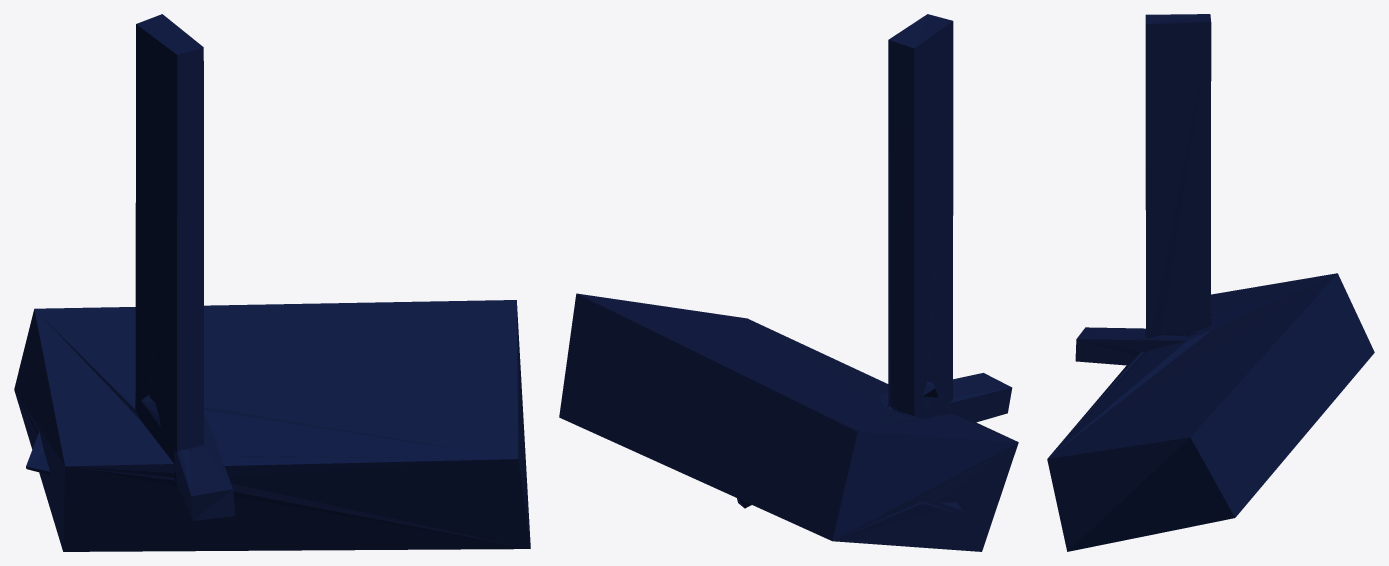
3 views of the same model, side by side, from view 1: azimuth 30°, elevation 25°; view 2: azimuth 150°, elevation 25°; view 3: azimuth 270°, elevation 25° (orthographic). The views are drawn at different scales.
Parts seen in each view (by area): view 1: 813_Cube.3278; view 2: 813_Cube.3278; view 3: 813_Cube.3278.
Boxes of the visible parts, bbox=[...] form: 813_Cube.3278: bbox=[14, 14, 530, 551]; 813_Cube.3278: bbox=[559, 14, 1018, 551]; 813_Cube.3278: bbox=[1047, 14, 1374, 551].
Bounding box in the file's own units: 13.5 × 15.08 × 10.58.
